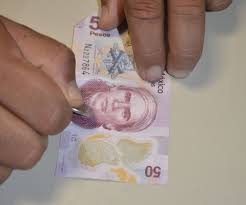billete: (53, 14, 171, 185)
